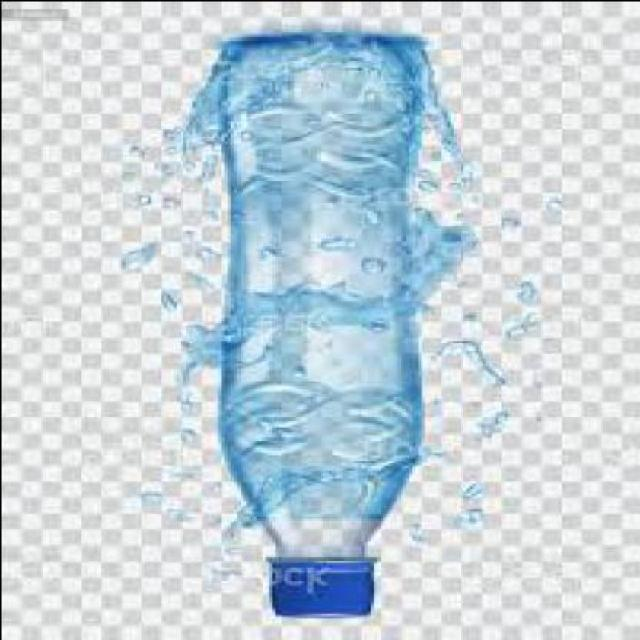PLASTIC: (213, 38, 424, 620), (265, 555, 372, 617)
